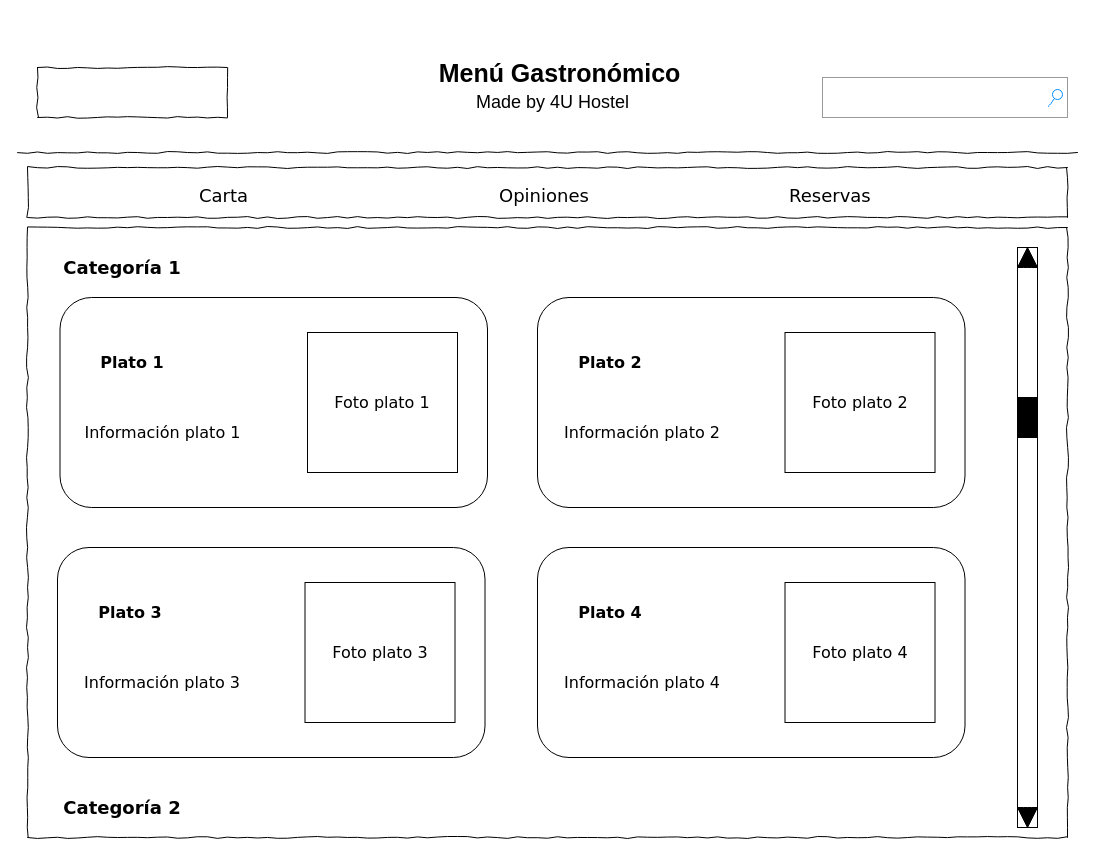
Some shapes in this 1095 by 855 pixel diagram are drawn without their labels. The shapes that lost their labels are listed below. From the top down, each one's centre as x and y in pixels, then its label:
point 132,92: LOGO
point 945,97: Search
